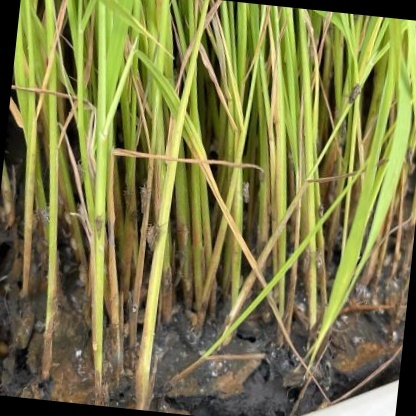Brown_hopper: (71, 144, 92, 191), (144, 216, 167, 257), (143, 222, 164, 255), (177, 211, 194, 251), (236, 176, 255, 208), (334, 119, 354, 149), (72, 260, 91, 289), (138, 180, 154, 214), (99, 375, 116, 407), (346, 80, 365, 108), (92, 211, 107, 246), (120, 181, 136, 212), (282, 148, 300, 175), (297, 243, 313, 273), (35, 205, 55, 226), (73, 202, 92, 224), (128, 208, 142, 234), (109, 318, 121, 347), (255, 164, 268, 188), (61, 210, 76, 230), (314, 250, 328, 270), (66, 234, 81, 251), (120, 321, 134, 339), (315, 203, 329, 220), (52, 193, 70, 206), (89, 338, 102, 355)
